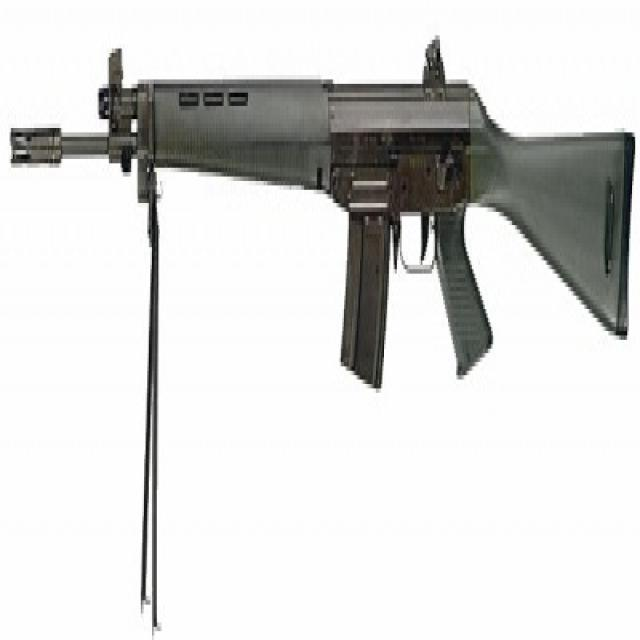rifle: (7, 36, 640, 640)
